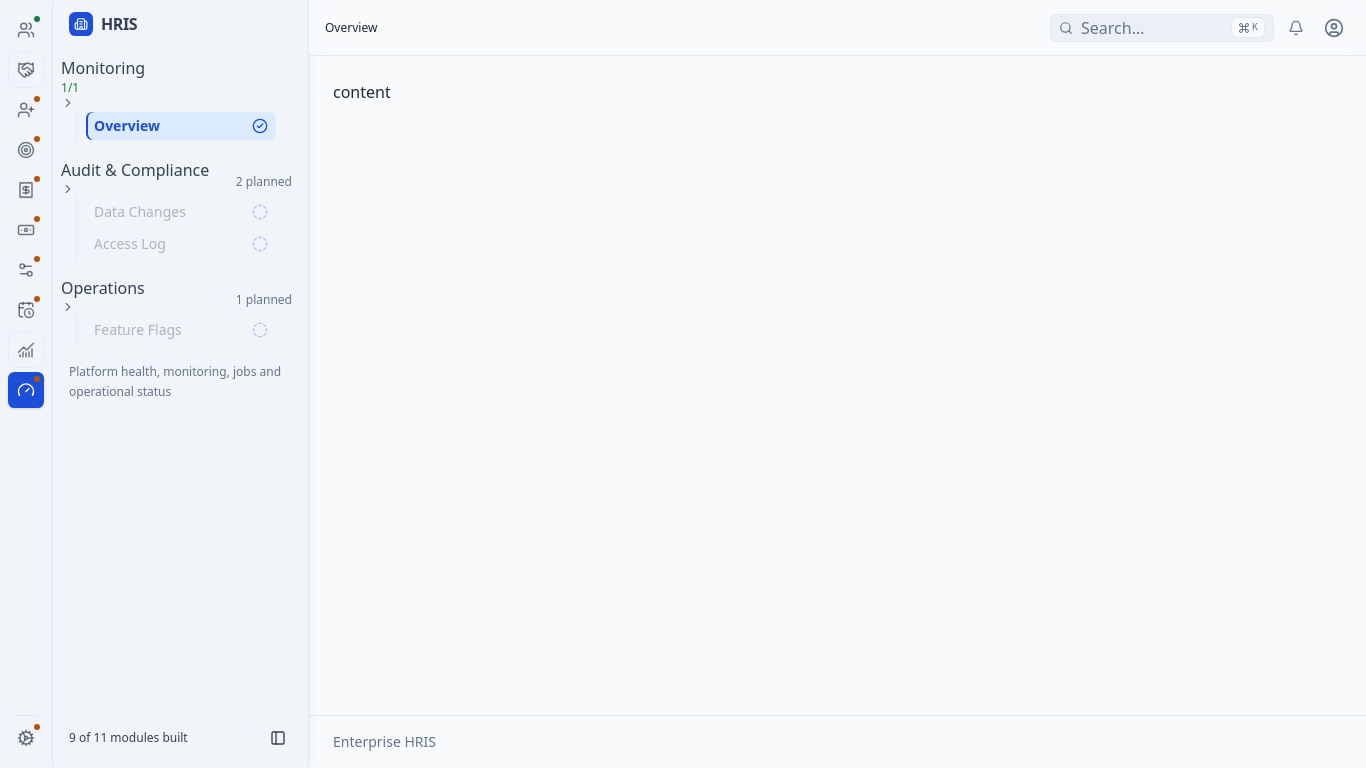
Test: module selection › scopes the sidebar to the module chosen in the rail
The width and height of the screenshot is (1366, 768).
Click the button named "Core HR. Employee master data, organization and employment l".
click(26, 30)  # box [8,12,44,48]
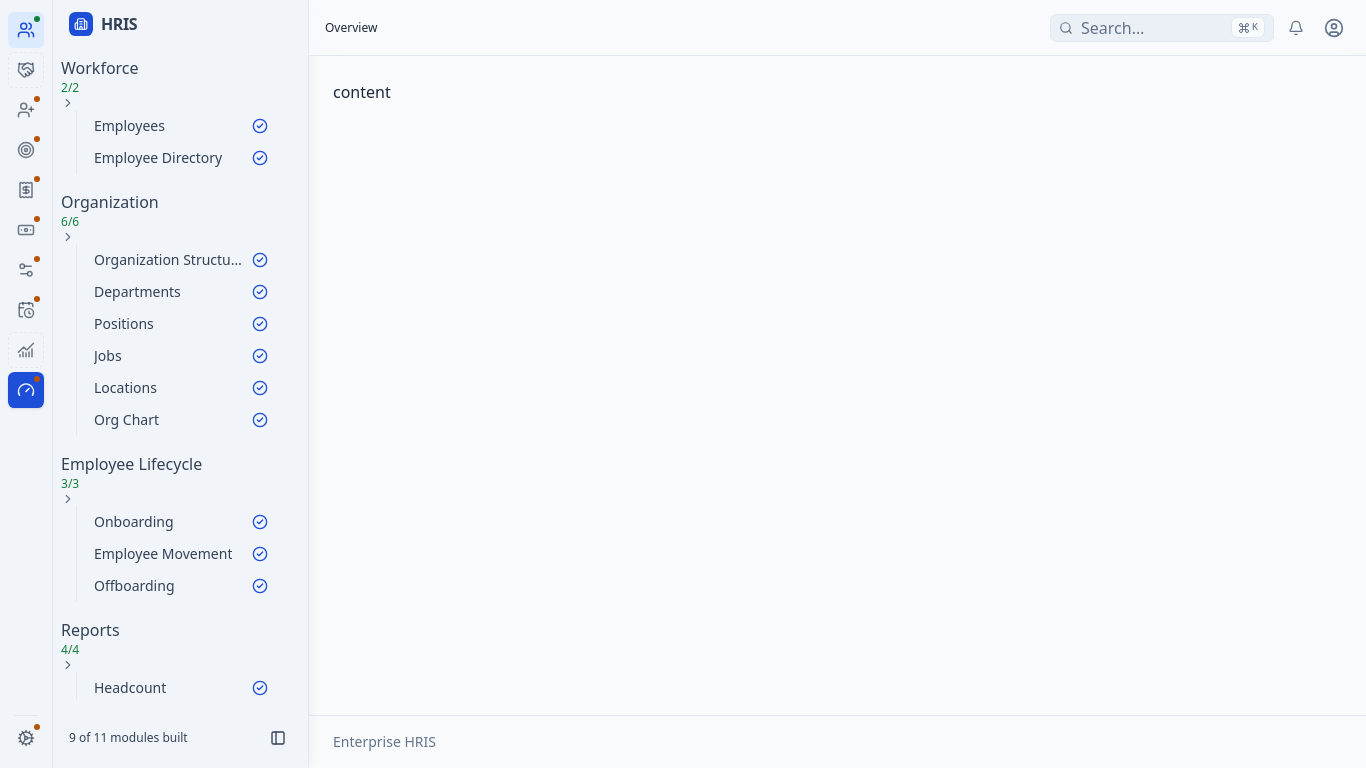
Now the text "Workforce" is shown, box [61,57,139,79]
Now the link "Employees" is shown, box [86,112,276,140]
